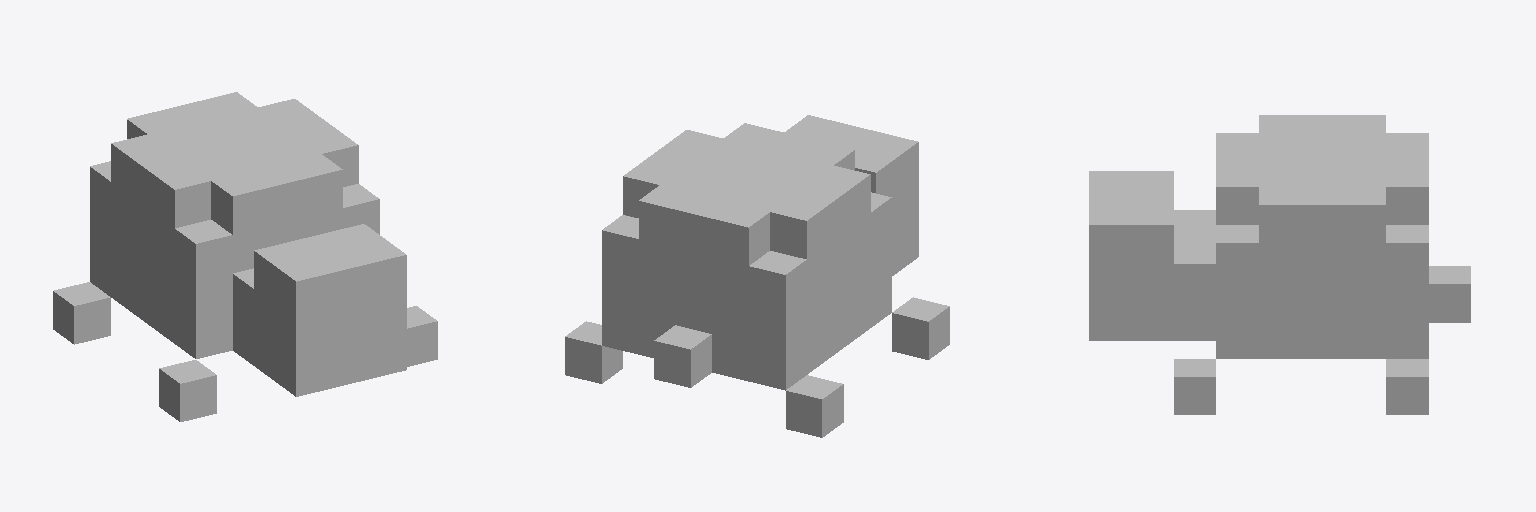
The model's file is turtle.obj.
3 renders of one model, left to right at view 1: azimuth 30°, elevation 25°; view 2: azimuth 150°, elevation 25°; view 3: azimuth 270°, elevation 25°, orthographic.
Parts seen in each view (by area): view 1: object 1; view 2: object 1; view 3: object 1.
Part boxes in pixels (x1,y1,x2,y2): object 1: (53, 92, 437, 421); object 1: (565, 115, 949, 437); object 1: (1089, 115, 1470, 414).
Size of the model in its own units: 0.7 by 0.5 by 0.9.